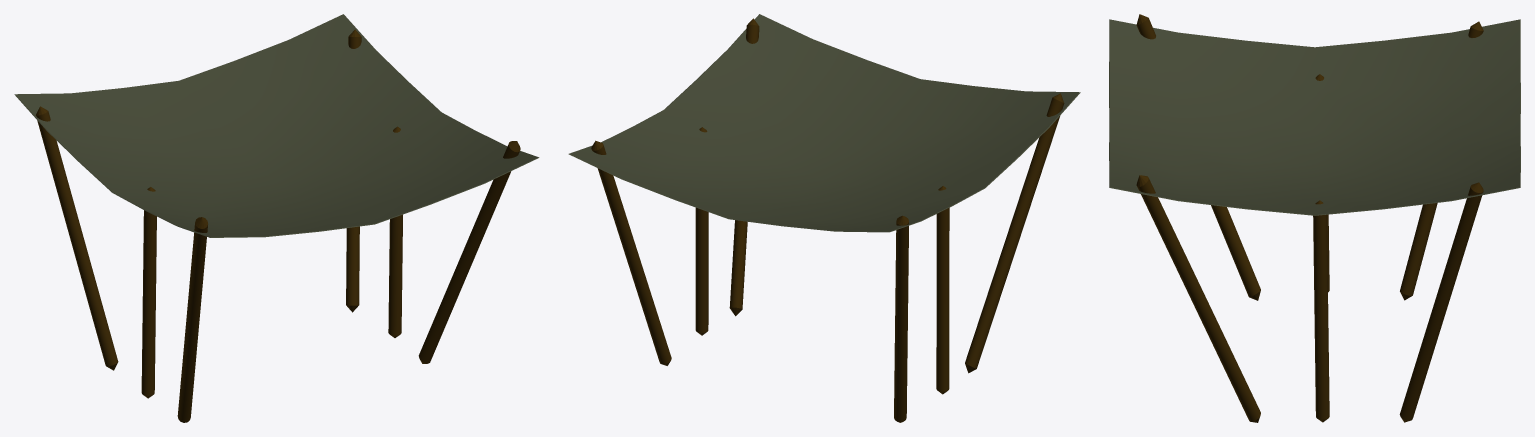
File: 3D_BUILD_TERRACEPIECE.FBX
The picture shows the model from 3 angles, left to right: view 1: azimuth 30°, elevation 25°; view 2: azimuth 150°, elevation 25°; view 3: azimuth 270°, elevation 25°; orthographic projection. The views are drawn at different scales.
Visible parts, largest first — view 1: Doek, Palen; view 2: Doek, Palen; view 3: Doek, Palen.
Part boxes in pixels (bbox=[...]): Doek: bbox=[14, 14, 539, 237]; Palen: bbox=[36, 29, 520, 422]; Doek: bbox=[568, 14, 1080, 232]; Palen: bbox=[591, 18, 1064, 422]; Doek: bbox=[1109, 19, 1520, 215]; Palen: bbox=[1136, 14, 1483, 422].
Bounding box in the file's own units: 310 × 229 × 320.
